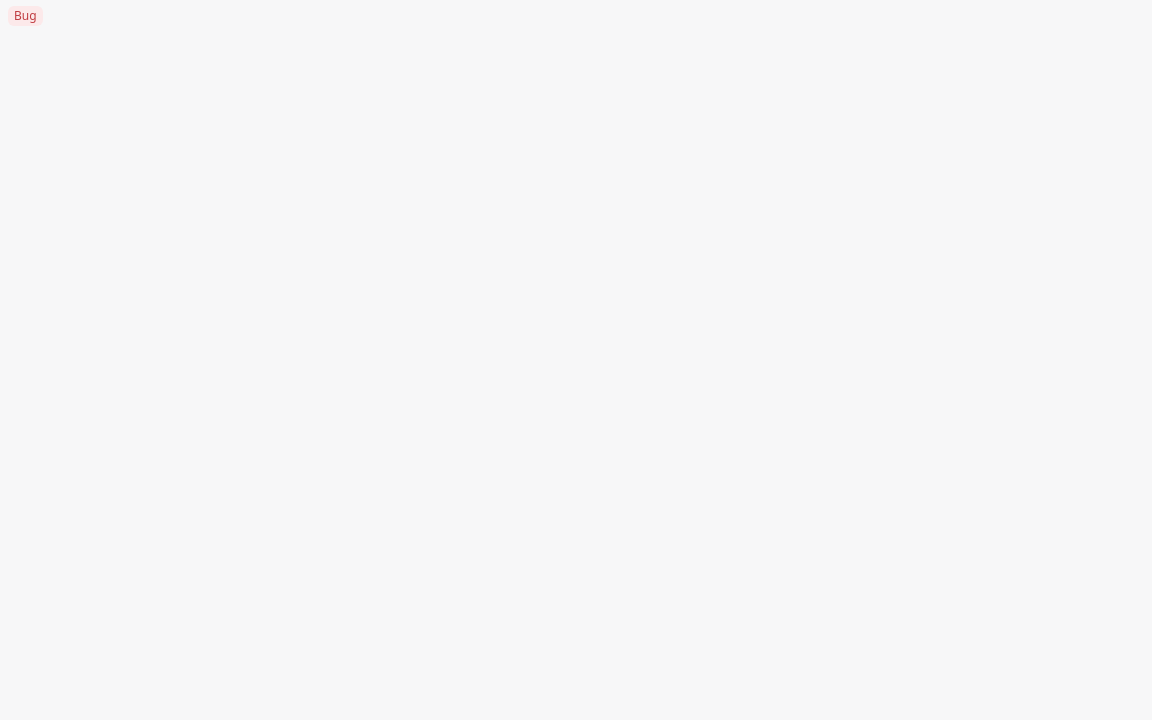
Test: LabelField › deletes a label after an inline confirm that counts its tasks
Later steps or results of the test are not shown.
Click the button "Bug" at (28, 26), box [0,0,1151,32]
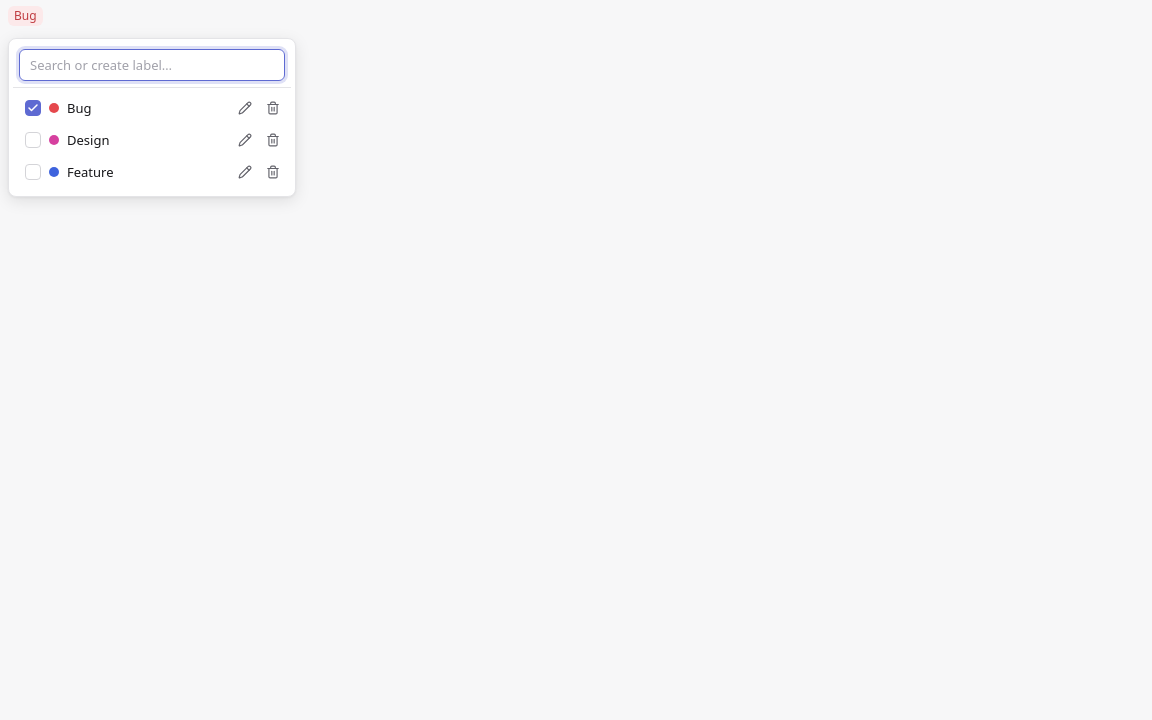
Click the button named "Delete Bug" at (273, 108), box [259,94,287,122]
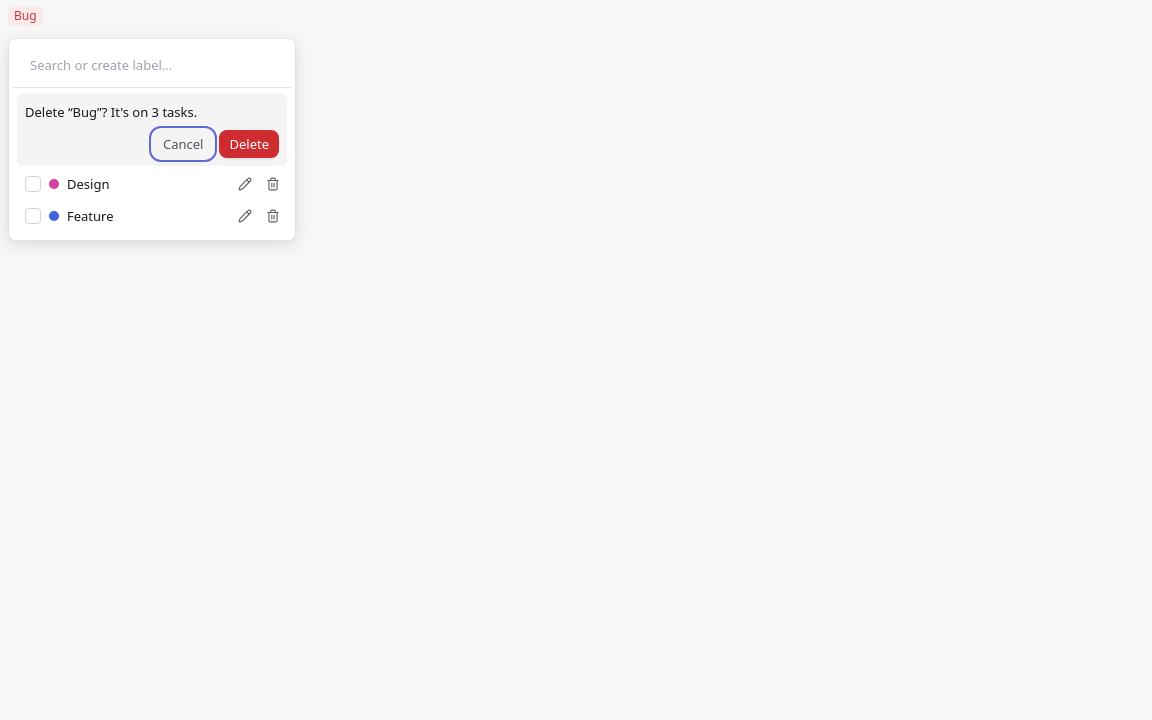
Check: the element "Delete “Bug”? It's on 3 tasks. Cancel Delete" is shown, box [17,94,287,166]
